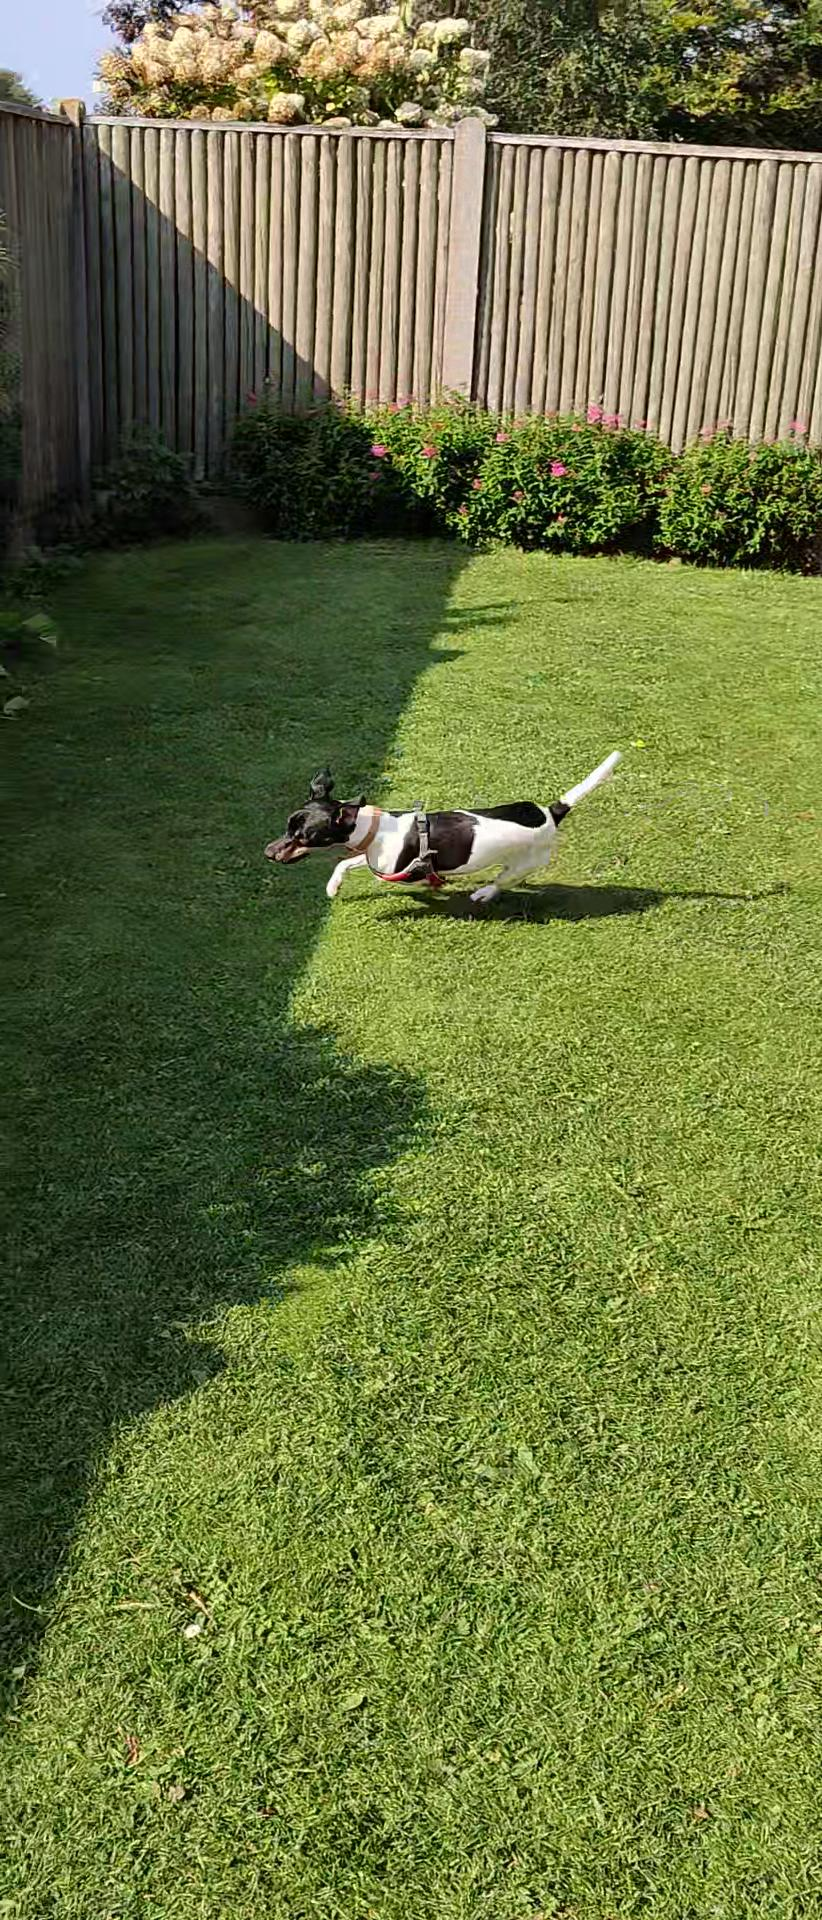Dog: (252, 733, 630, 912)
